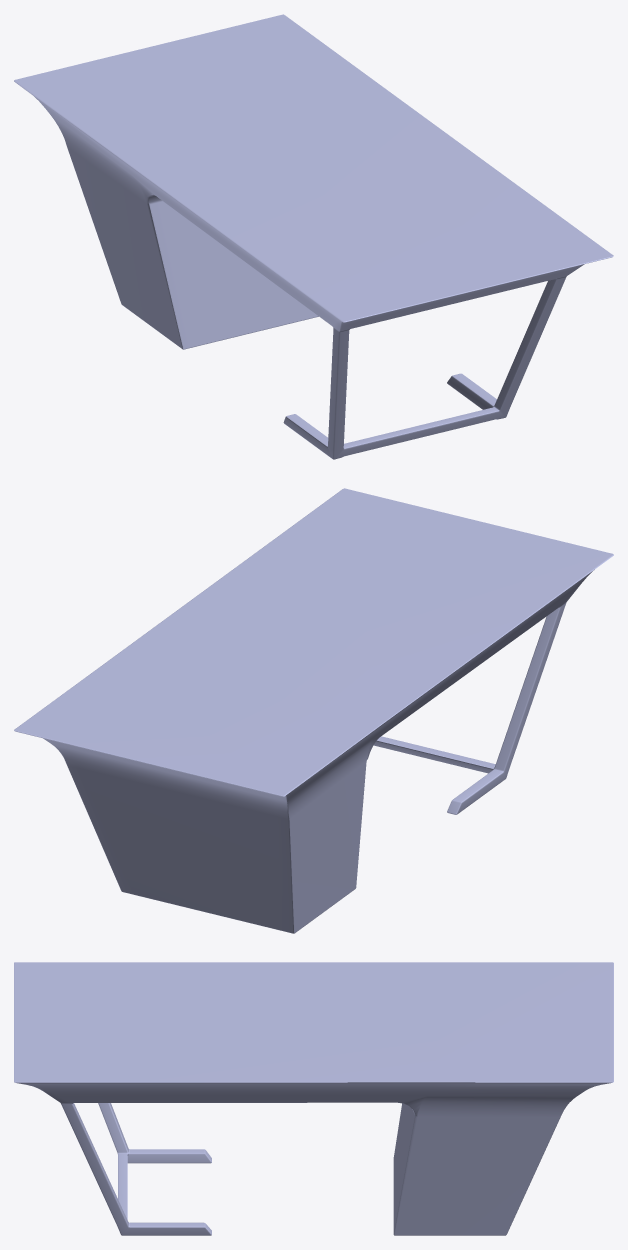
Rendered from Desk_Model00.fbx.
3 views of the same model, one above another, from view 1: azimuth 30°, elevation 25°; view 2: azimuth 150°, elevation 25°; view 3: azimuth 270°, elevation 25° (orthographic). The views are drawn at different scales.
Parts seen in each view (by area): view 1: Desk; view 2: Desk; view 3: Desk.
Part boxes in pixels (x1,y1,x2,y2): Desk: [14, 14, 613, 459]; Desk: [14, 488, 613, 933]; Desk: [14, 962, 613, 1235].
Size of the model in its own units: 77.8 by 53 by 164.
